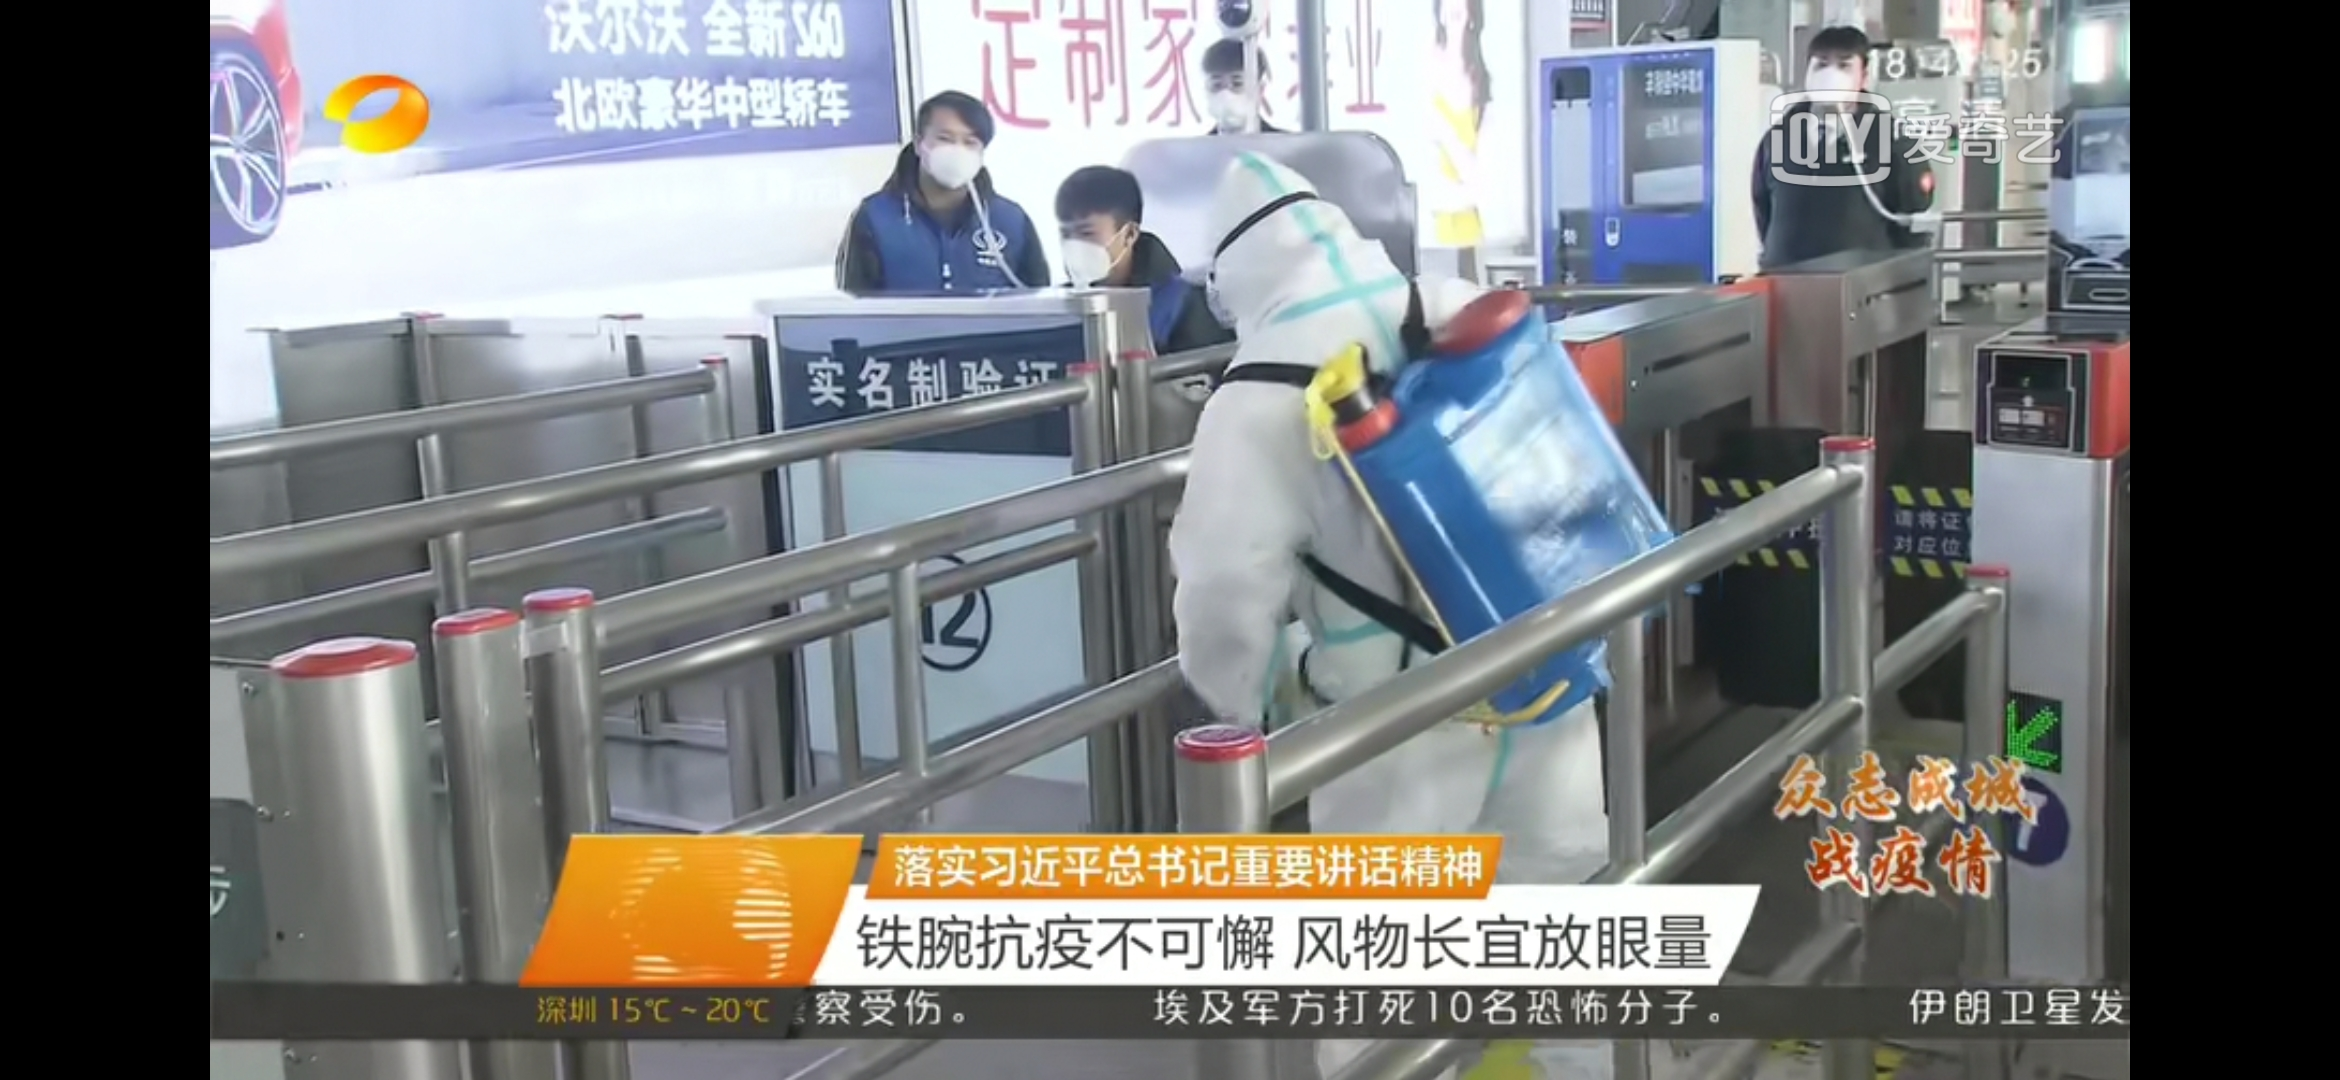correctlyWear: (1057, 207, 1148, 294), (910, 119, 995, 201), (1200, 55, 1264, 131), (1807, 45, 1865, 109)
